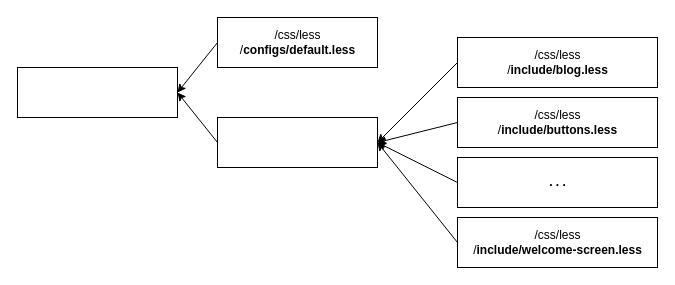
The diagram is 675 pixels wide and 285 high, and some of its shapes have lost their labels. The centre of each missing label's shape, as x and y in pixels:
"/css/less / include/styles.less" belongs at (297,142).
"/css/less / styles-default.less" belongs at (97,92).
